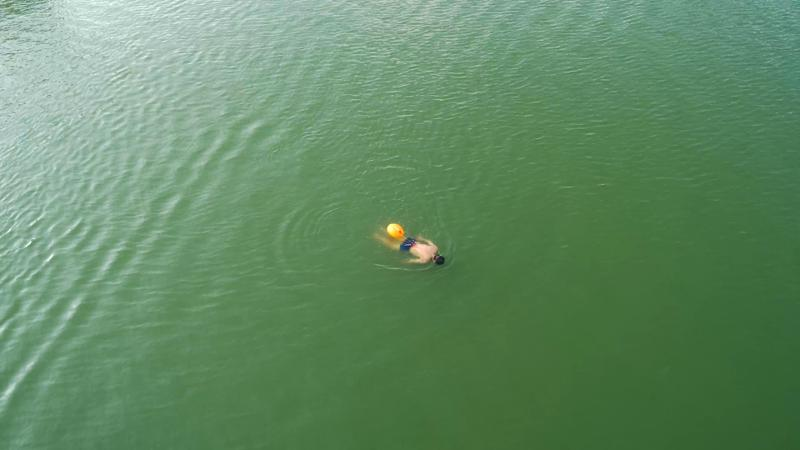swimmers: (373, 223, 445, 267)
